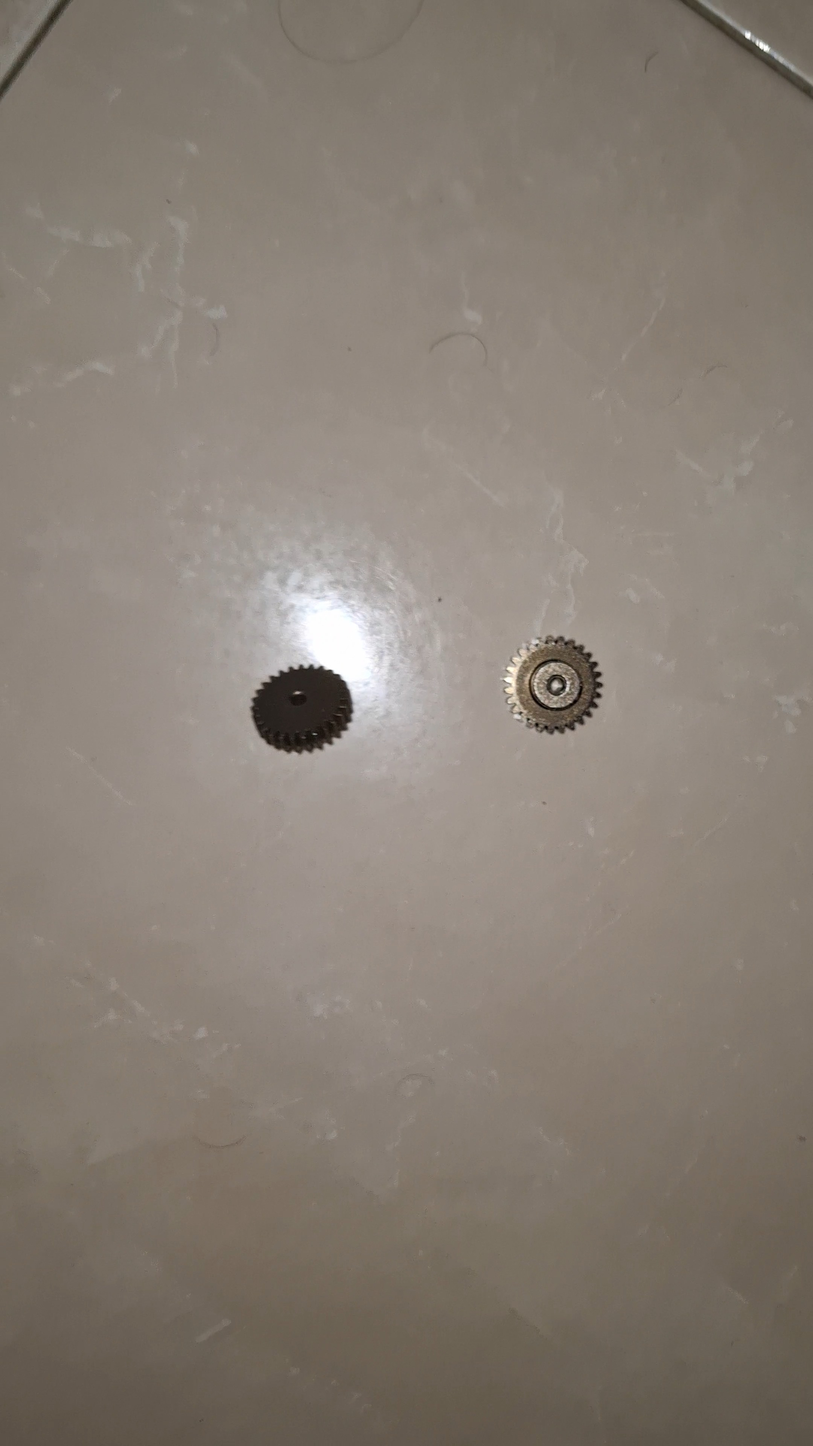spur gear: (505, 636, 601, 732), (252, 666, 351, 752)
